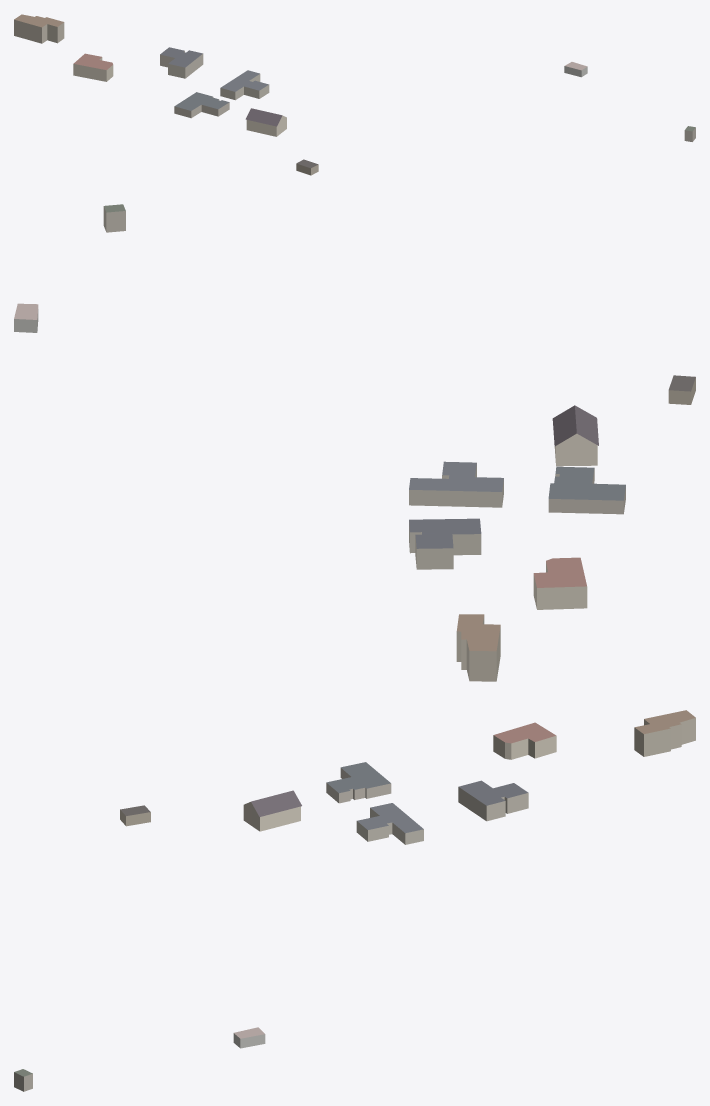
3 renders of one model, top to bottom at view 1: azimuth 30°, elevation 25°; view 2: azimuth 150°, elevation 25°; view 3: azimuth 270°, elevation 25°, orthographic. The views are drawn at different scales.
Parts seen in each view (by area): view 1: tuile; view 2: tuile; view 3: tuile.
Part boxes in pixels (x1,y1,x2,y2): tuile: (14, 14, 695, 175); tuile: (14, 204, 695, 681); tuile: (14, 710, 695, 1091).
Bounding box in the file's own units: 228 × 26.52 × 215.
